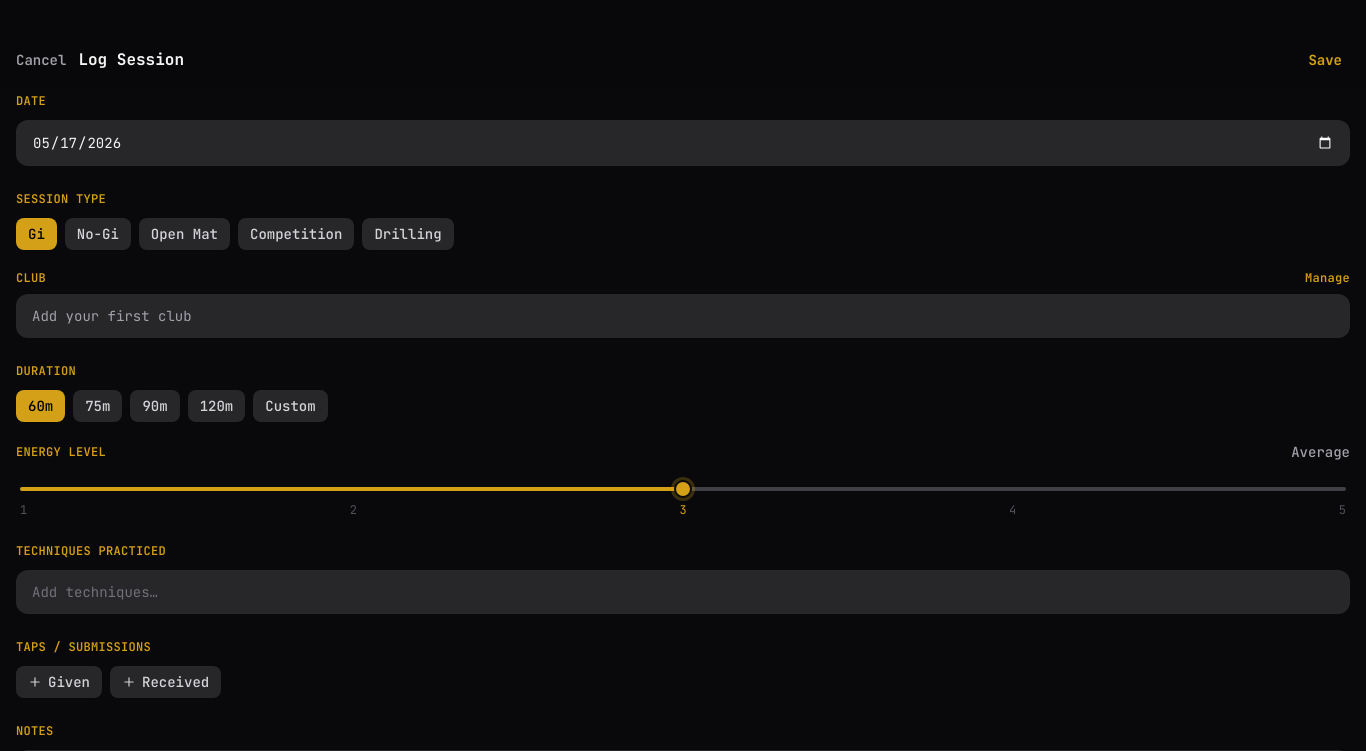
Test case: AddEditSessionPage — duration preset buttons › clicking a preset after Custom hides the custom input
The width and height of the screenshot is (1366, 751).
Click the button "Custom".
click(290, 406)  # box x1=253 y1=390 x2=328 y2=422
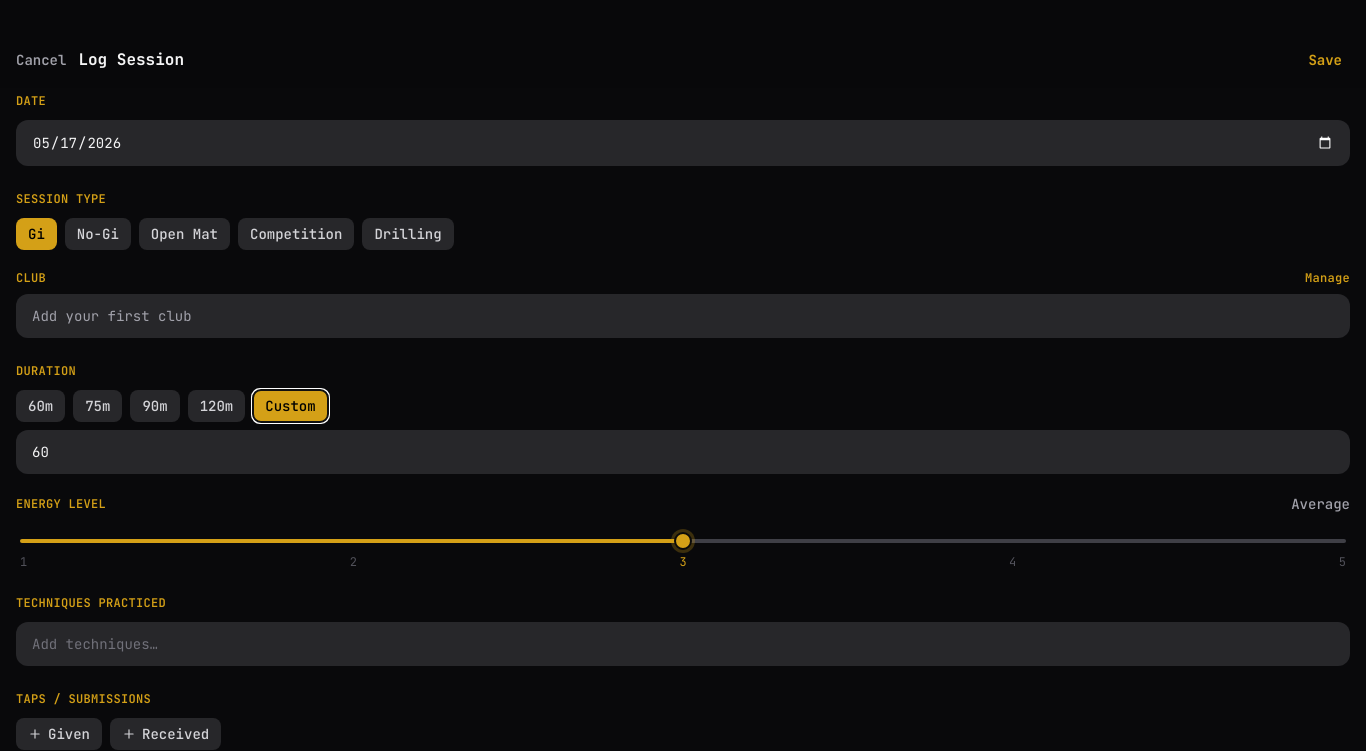
Check: the number field with placeholder "Minutes" is shown, box x1=16 y1=430 x2=1350 y2=474
Click the button "75m".
click(98, 406)  # box x1=73 y1=390 x2=122 y2=422
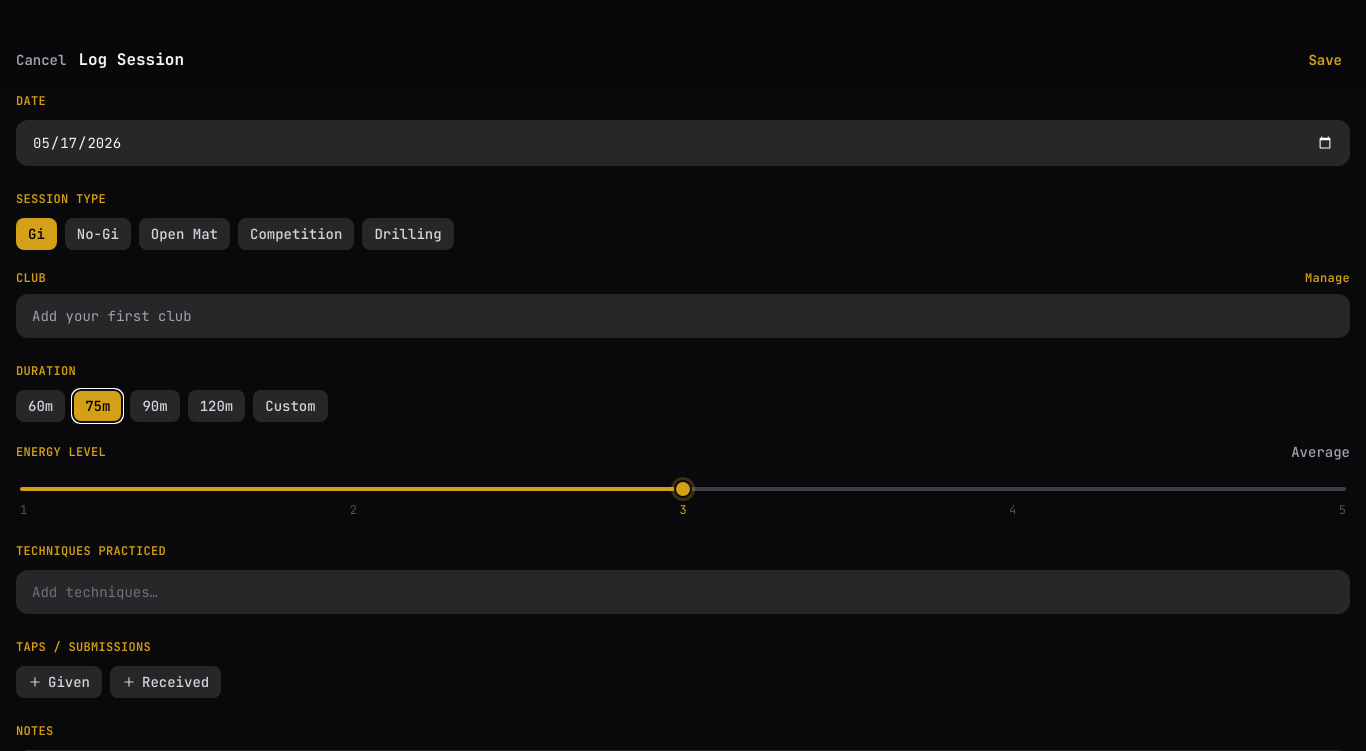
Check: the number field with placeholder "Minutes" is gone
